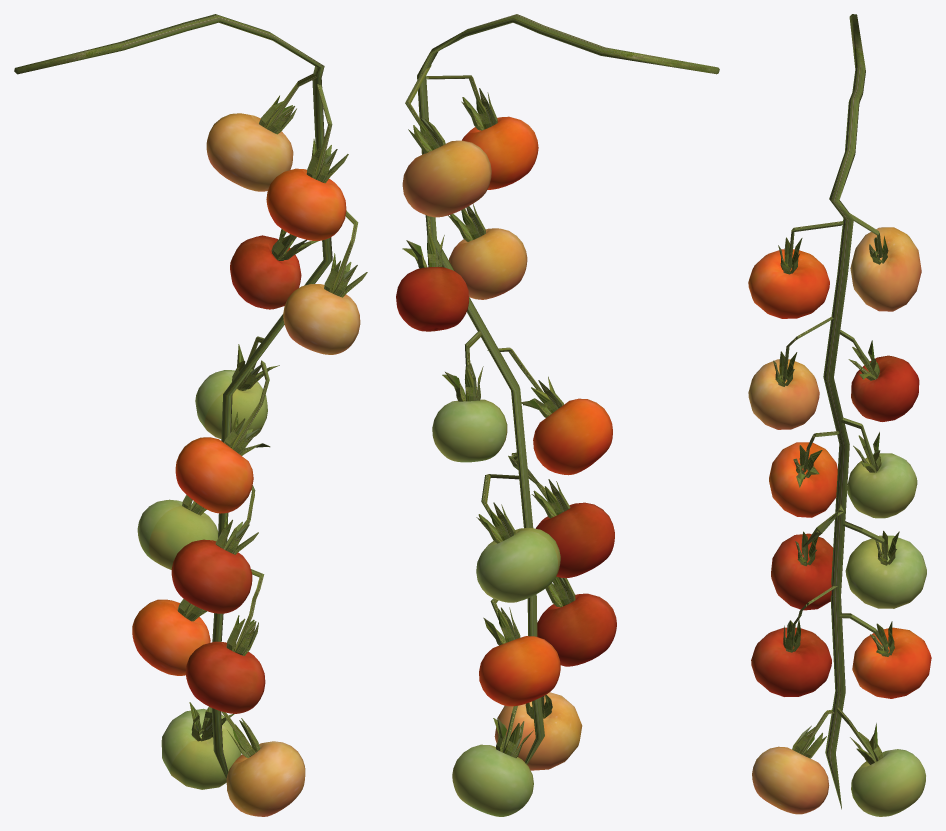
File: tomato_truss_repo.dae
The picture shows the model from 3 angles, left to right: view 1: azimuth 30°, elevation 25°; view 2: azimuth 150°, elevation 25°; view 3: azimuth 270°, elevation 25°; orthographic projection. The views are drawn at different scales.
Visible parts, largest first — view 1: Cylinder.001, Sphere.003, Sphere.006, Sphere.011, Sphere.005, Sphere.001, Sphere.010, Sphere.007, Sphere.009, Sphere.008, Sphere.002, Sphere.012 (+11 smaller); view 2: Cylinder.001, Sphere.003, Sphere.012, Sphere.005, Sphere.009, Sphere.008, Sphere.010, Sphere.007, Sphere.004, Sphere.002, Sphere.006, Sphere.011 (+12 smaller); view 3: Cylinder.001, Sphere.003, Sphere.012, Sphere.001, Sphere.010, Sphere.009, Sphere.011, Sphere.008, Sphere.005, Sphere.007, Sphere.006, Sphere.004 (+13 smaller).
Part boxes in pixels (x1,y1,x2,y2): Cylinder.001: (14,14,332,778); Sphere.003: (206,113,293,191); Sphere.006: (171,539,252,613); Sphere.011: (226,741,305,816); Sphere.005: (175,437,253,513); Sphere.001: (266,168,346,240); Sphere.010: (185,641,265,713); Sphere.007: (283,284,360,354); Sphere.009: (132,599,210,675); Sphere.008: (161,708,241,789); Sphere.002: (230,235,301,309); Sphere.012: (137,499,218,569); Cylinder.001: (417,14,719,764); Sphere.003: (402,140,491,217); Sphere.012: (476,527,560,602); Sphere.005: (533,398,612,475); Sphere.009: (479,636,560,706); Sphere.008: (452,744,533,816); Sphere.010: (537,593,616,666); Sphere.007: (449,228,527,299); Sphere.004: (432,399,507,462); Sphere.002: (396,267,468,331); Sphere.006: (536,502,614,578); Sphere.011: (494,692,582,770); Cylinder.001: (823,14,865,809); Sphere.003: (850,227,921,311); Sphere.012: (845,535,926,608); Sphere.001: (748,249,829,318); Sphere.010: (751,627,831,696); Sphere.009: (852,627,931,698); Sphere.011: (752,746,829,814); Sphere.008: (851,749,925,816); Sphere.005: (769,442,837,517); Sphere.007: (748,359,819,429); Sphere.006: (771,533,833,610); Sphere.004: (847,453,917,518).
Size of the model in its own units: 0.1277 by 0.0717 by 0.3076.
5 materials, 5 textured.
